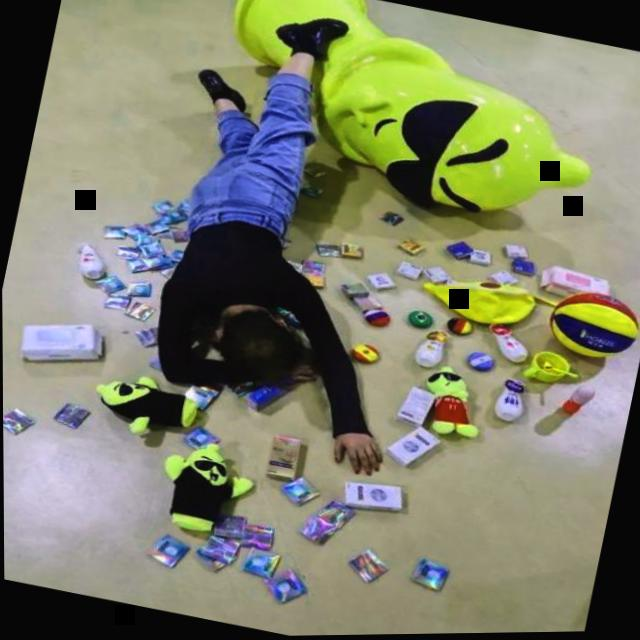Fall-Detected: (56, 0, 489, 516)
